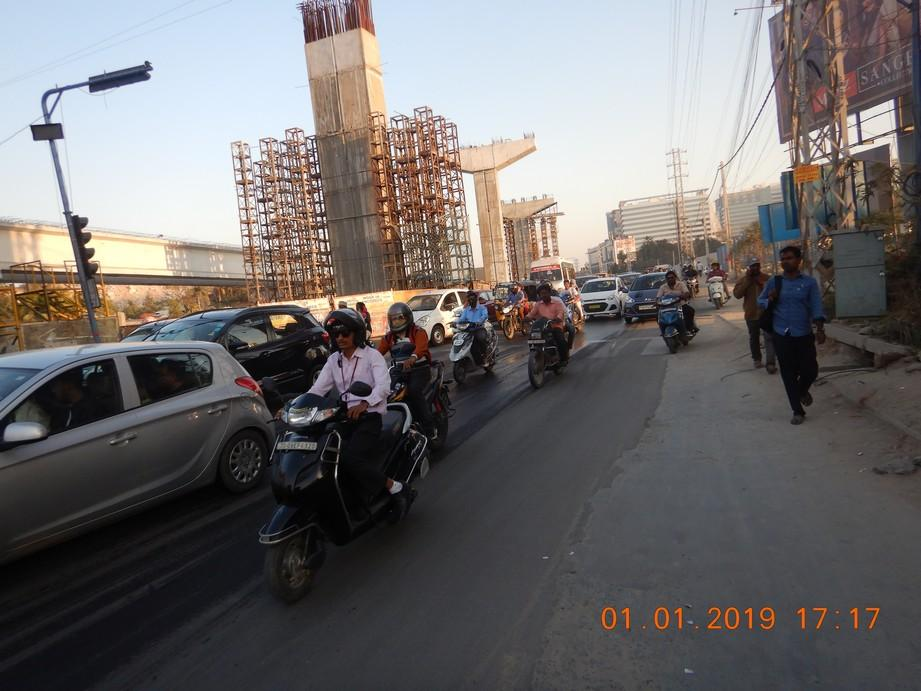plate: (275, 439, 318, 453)
